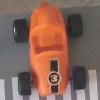carro: (14, 3, 86, 98)
